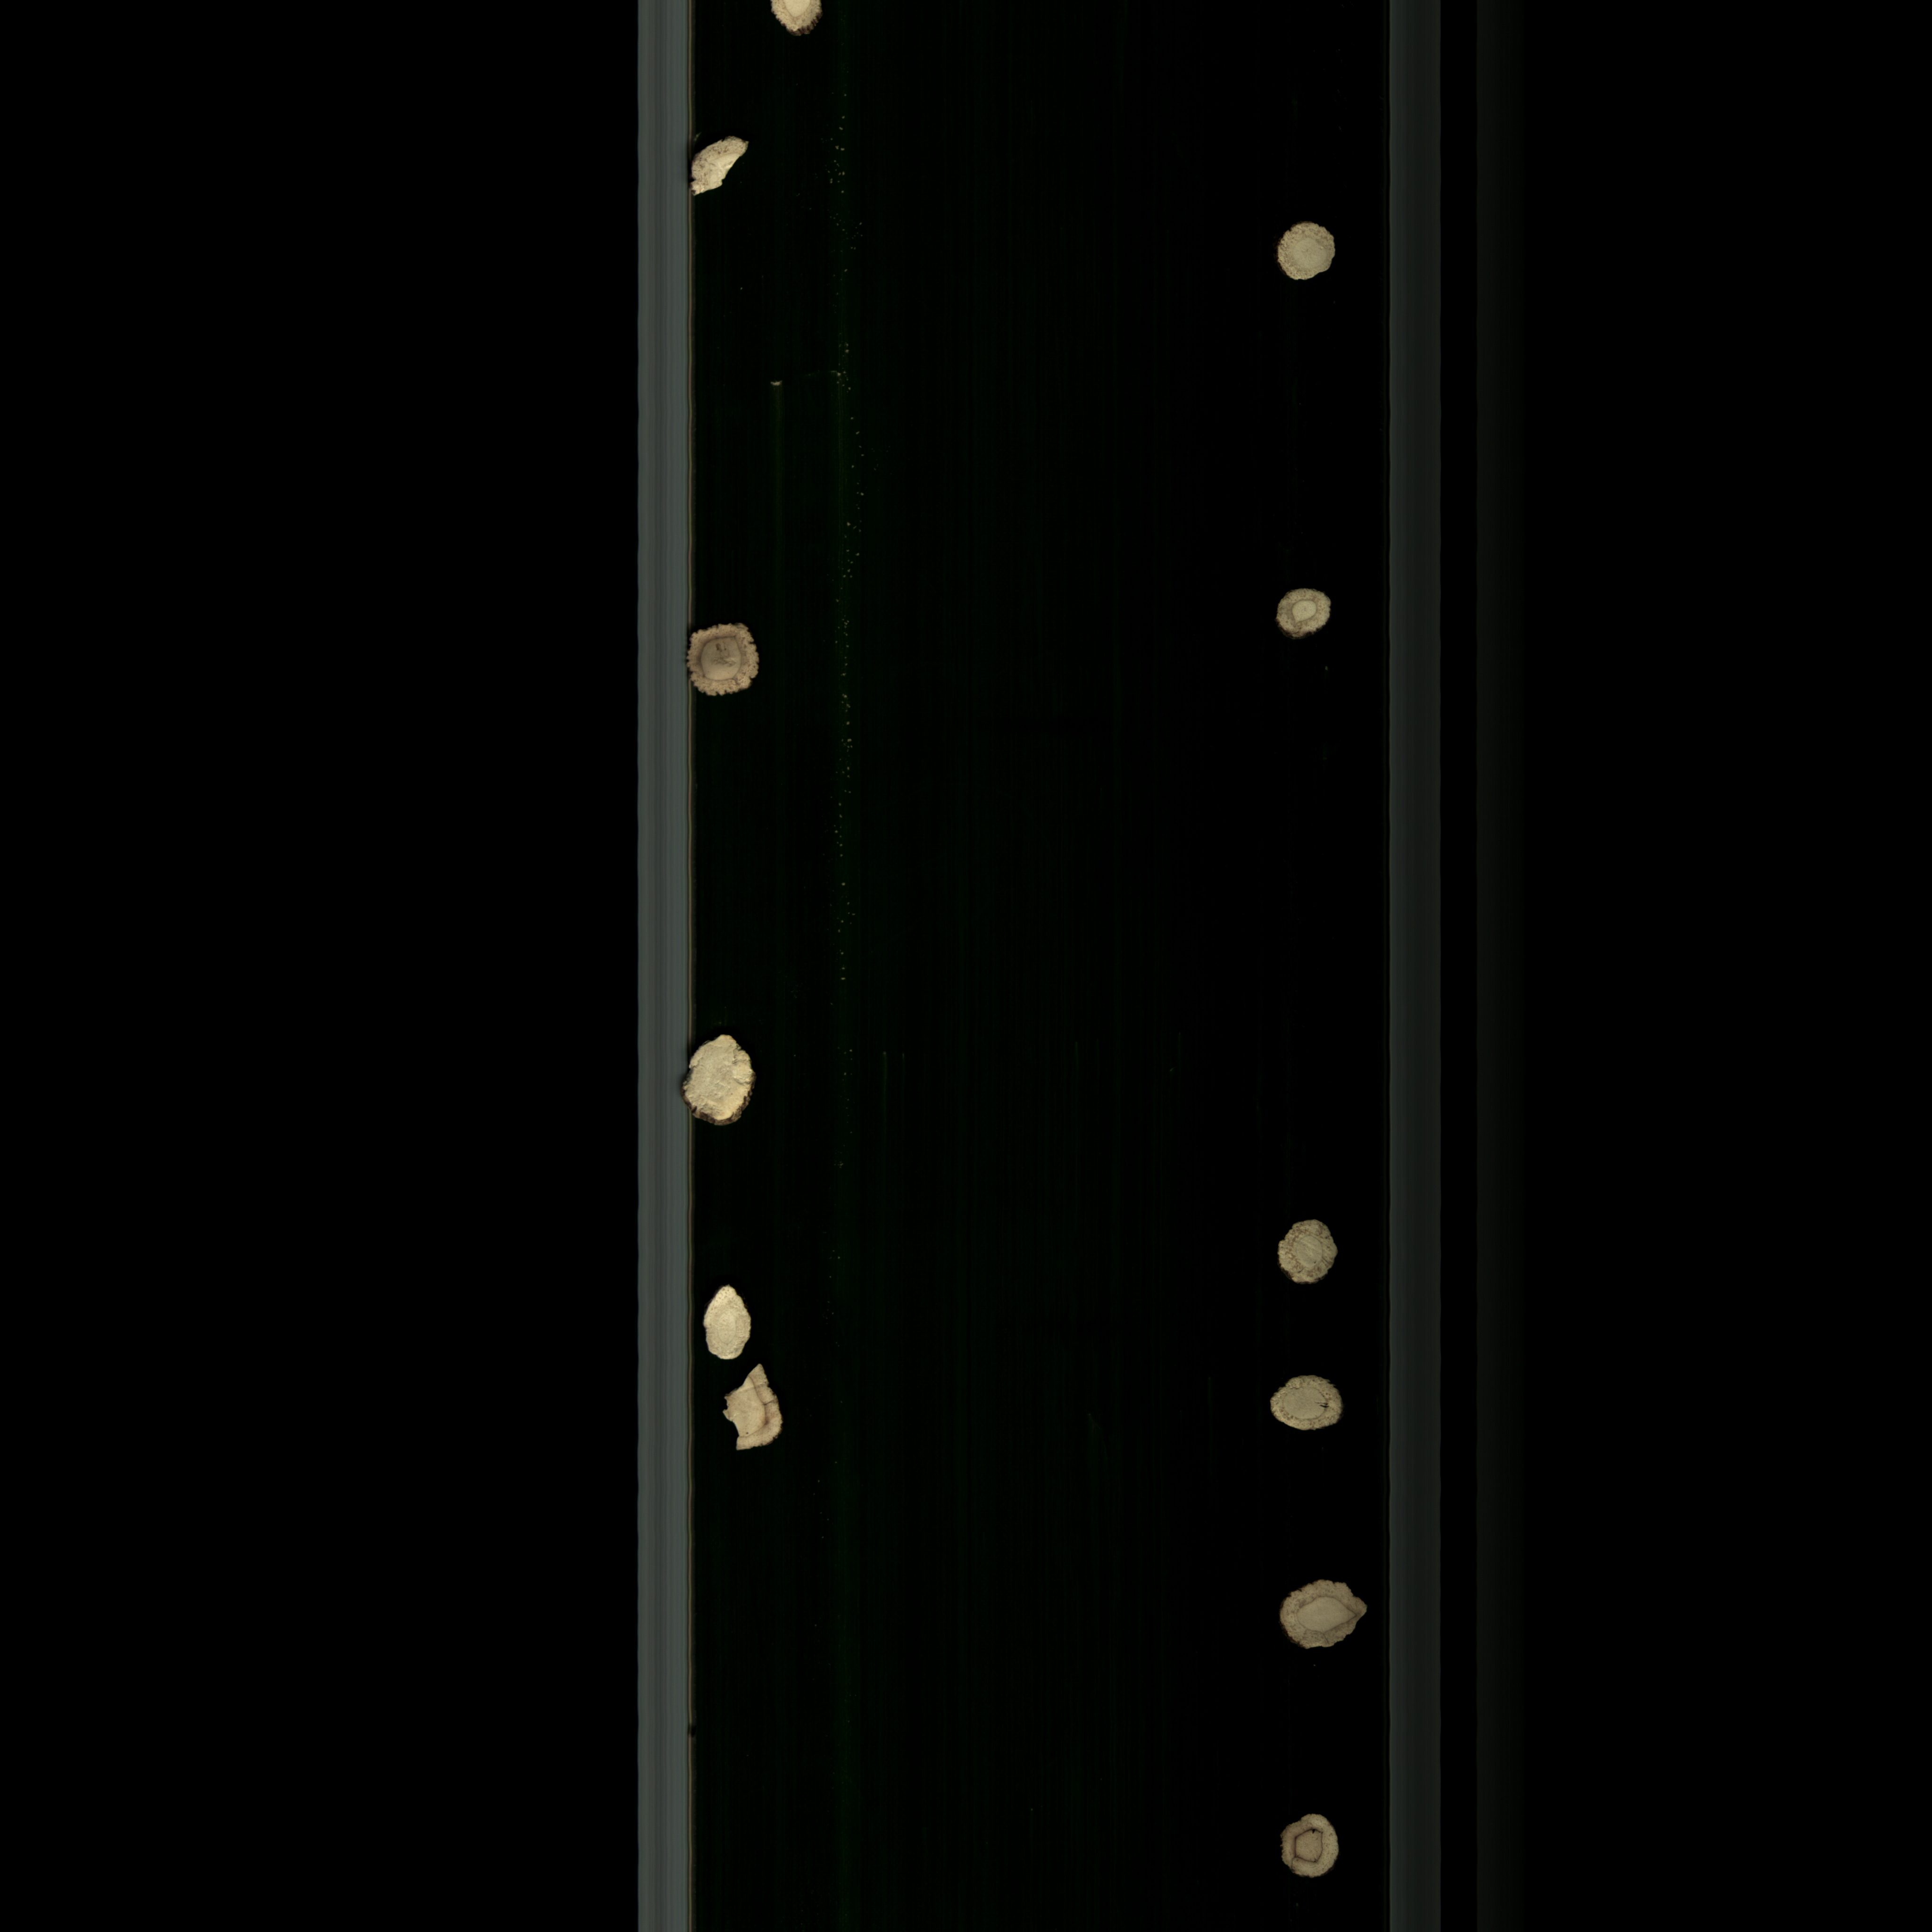debris: (1269, 1566, 1373, 1667), (717, 1357, 793, 1461), (679, 129, 763, 209)
distortion: (672, 1024, 761, 1145), (697, 1269, 752, 1369)
hole: (1256, 1355, 1361, 1440)
moldy: (679, 616, 773, 709), (1267, 1203, 1345, 1304), (1269, 1805, 1348, 1888), (1260, 577, 1341, 642)
